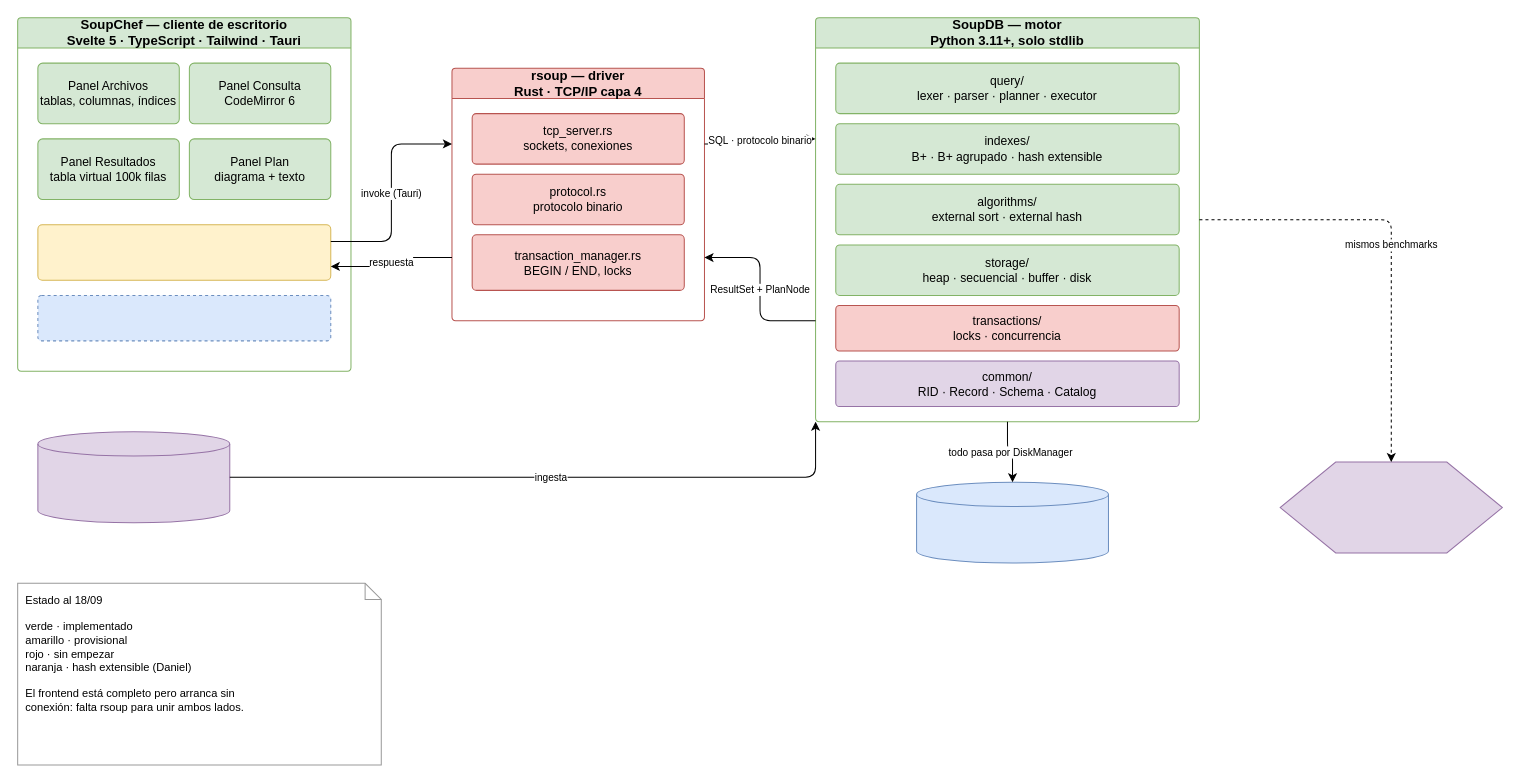
Image size: 1520x783. Some labels were removed from this diagram. The shapes that lost their labels are listed below. From the top down, each one's centre as x and y in pixels, then its label:
point 184,252: SoupClient (interfaz) hoy: DisconnectedClient / mock
point 184,317: al integrar se cambia una línea: new TauriClient()
point 133,477: dataset arXiv papers · chunks 1k / 10k / 100k
point 1012,522: archivos de datos páginas de 4 KB
point 1390,507: PostgreSQL 16 comparación experimental GIST (2) · GIN (3)
